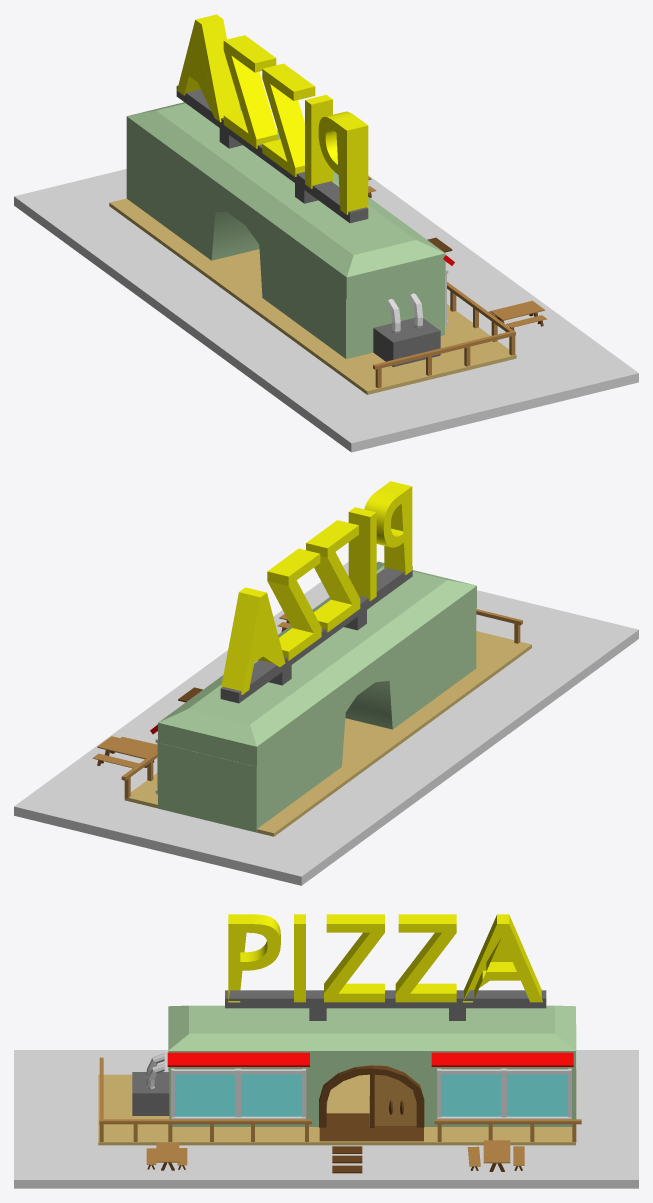
Rendered from PizzaHouse2r.fbx.
3 renders of one model, top to bottom at view 1: azimuth 30°, elevation 25°; view 2: azimuth 150°, elevation 25°; view 3: azimuth 270°, elevation 25°, orthographic. The views are drawn at different scales.
Parts seen in each view (by area): view 1: Floor, pCube1, pCube2, pCube45, pCube46, polySurface4, polySurface5, polySurface1, polySurface3, pCube34, pCube39, polySurface2 (+1 smaller); view 2: Floor, pCube1, pCube46, pCube2, pCube45, polySurface5, polySurface4, polySurface3, polySurface1, pCube34, polySurface2, pCube15; view 3: Floor, pCube1, pCube2, pCube19 (×2), pCube18 (×2), pCube34, polySurface4, polySurface3, polySurface5, polySurface1, pCube41, pCube37 (+14 smaller).
Boxes of the visible parts, x1,y1,x2,y2 form: Floor: (14, 169, 638, 452); pCube1: (126, 102, 445, 299); pCube2: (109, 198, 516, 394); pCube45: (242, 221, 444, 358); pCube46: (126, 138, 259, 260); polySurface4: (223, 35, 277, 148); polySurface5: (177, 14, 240, 122); polySurface1: (318, 111, 368, 214); polySurface3: (262, 63, 315, 176); pCube34: (176, 85, 368, 223); pCube39: (373, 318, 440, 366); polySurface2: (305, 94, 332, 188); Floor: (14, 562, 638, 885); pCube1: (158, 561, 476, 768); pCube46: (158, 696, 356, 832); pCube2: (124, 631, 531, 836); pCube45: (345, 608, 476, 729); polySurface5: (221, 587, 285, 694); polySurface4: (267, 548, 321, 660); polySurface3: (306, 520, 360, 632); polySurface1: (364, 481, 412, 575); pCube34: (220, 566, 412, 703); polySurface2: (348, 507, 376, 601); pCube15: (97, 736, 157, 759); Floor: (14, 1050, 638, 1188); pCube1: (168, 1005, 575, 1071); pCube2: (98, 1074, 575, 1145); pCube19 (×2): (241, 1074, 567, 1116); pCube18 (×2): (175, 1074, 500, 1116); pCube34: (225, 990, 546, 1008); polySurface4: (395, 914, 456, 1002); polySurface3: (324, 914, 384, 1002); polySurface5: (462, 914, 542, 1002); polySurface1: (228, 914, 280, 1002); pCube41: (319, 1113, 423, 1141); pCube37: (167, 1052, 309, 1066).
Bounding box in the file's own units: 22.61 × 17.01 × 45.97.
